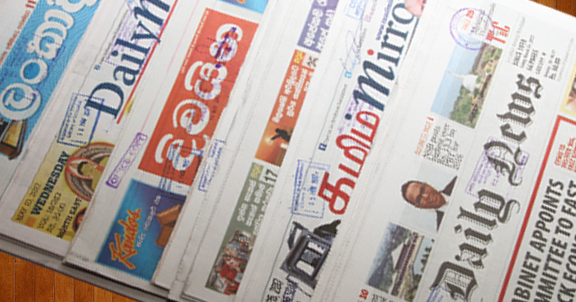news_paper: (238, 1, 444, 302), (14, 1, 216, 302), (132, 1, 303, 302), (405, 1, 574, 298), (1, 1, 163, 302)
